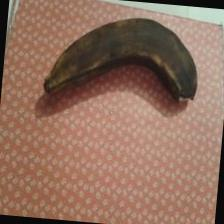Banana Rotten: (30, 15, 210, 110)
